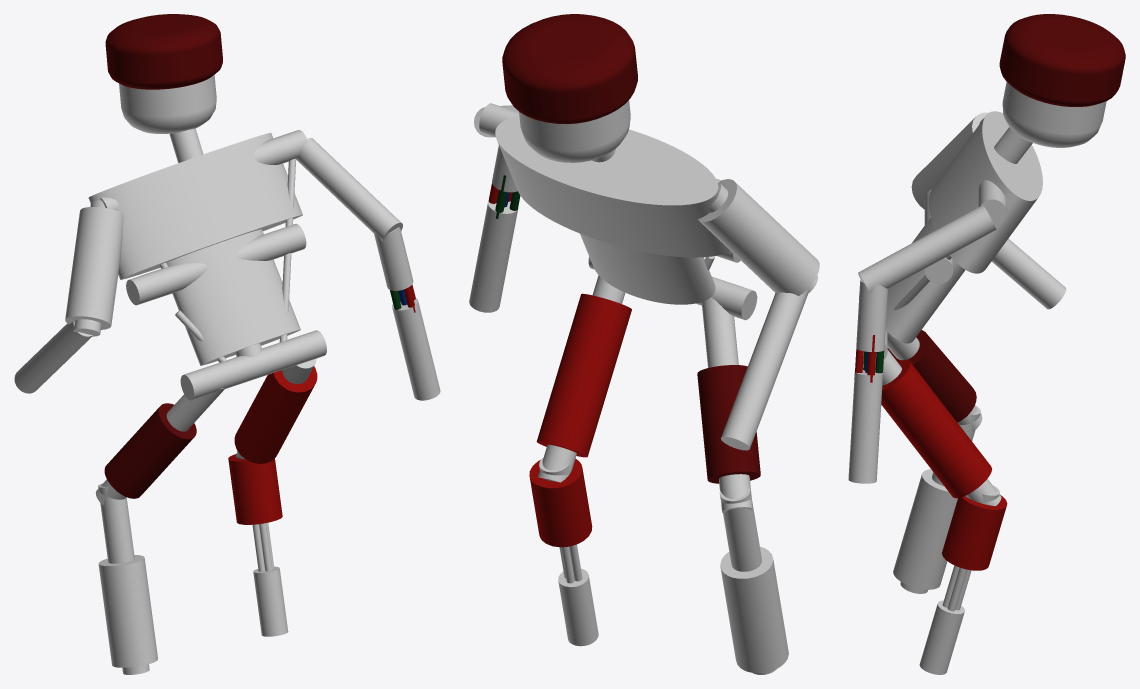
Rendered from exploding-tnt.obj.
The picture shows the model from 3 angles, left to right: view 1: azimuth 30°, elevation 25°; view 2: azimuth 150°, elevation 25°; view 3: azimuth 270°, elevation 25°; orthographic projection. The views are drawn at different scales.
Parts seen in each view (by area): view 1: Meshescylinder1, Meshescylinder2, Part12, Part1, Part2, Part14, Part3, Part15, Part8, Part32, Part23, Part13 (+9 smaller); view 2: Meshescylinder1, Part12, Part14, Part1, Part2, Meshescylinder2, Part4, Part3, Part15, Part13, Part19, Part10 (+6 smaller); view 3: Part12, Meshescylinder1, Part14, Part2, Part15, Part23, Part13, Part19, Meshescylinder2, Part3, Part4, Part11 (+8 smaller).
Part boxes in pixels (box(x1,y1,x2,y2)): Meshescylinder1: box(88, 132, 302, 279); Meshescylinder2: box(166, 229, 300, 365); Part12: box(105, 14, 222, 89); Part1: box(65, 207, 123, 329); Part2: box(98, 555, 157, 667); Part14: box(234, 366, 317, 463); Part3: box(104, 403, 196, 498); Part15: box(119, 75, 216, 133); Part8: box(180, 330, 326, 400); Part32: box(126, 224, 306, 305); Part23: box(296, 138, 402, 241); Part13: box(228, 454, 282, 524); Meshescylinder1: box(495, 116, 730, 257); Part12: box(502, 14, 637, 124); Part14: box(536, 293, 631, 457); Part1: box(698, 179, 819, 295); Part2: box(720, 546, 788, 672); Meshescylinder2: box(580, 233, 715, 304); Part4: box(721, 288, 808, 450); Part3: box(697, 365, 760, 483); Part15: box(519, 100, 630, 162); Part13: box(529, 458, 592, 547); Part19: box(469, 201, 518, 312); Part10: box(702, 297, 752, 513); Part12: box(999, 14, 1125, 106); Meshescylinder1: box(928, 111, 1042, 273); Part14: box(881, 359, 991, 498); Part2: box(893, 469, 957, 589); Part15: box(1002, 82, 1106, 147); Part23: box(858, 205, 996, 292); Part13: box(942, 494, 1007, 570); Part19: box(848, 369, 882, 483); Meshescylinder2: box(885, 217, 965, 343); Part3: box(887, 330, 976, 422); Part4: box(991, 238, 1066, 309); Part11: box(919, 600, 964, 674).
Size of the model in its own units: 9.87 by 16.39 by 6.66.
